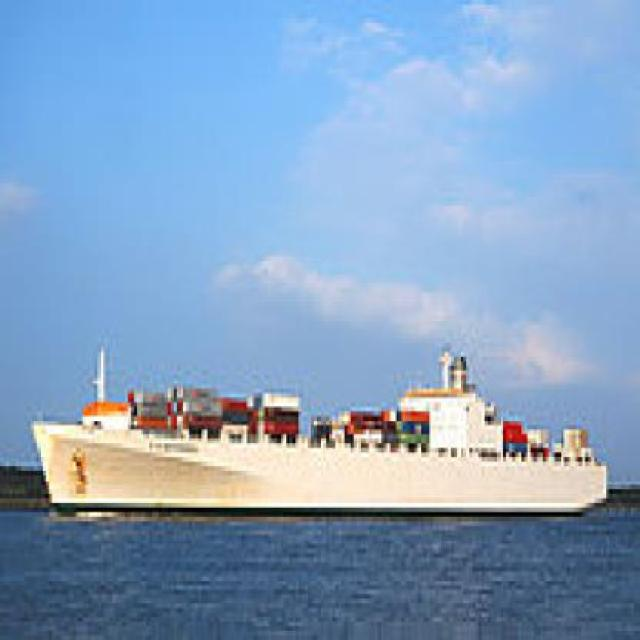container: (25, 335, 620, 541)
